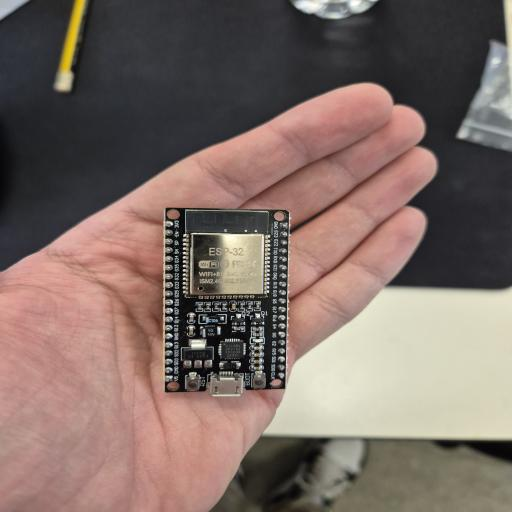esp32-dev: (164, 208, 289, 396)
